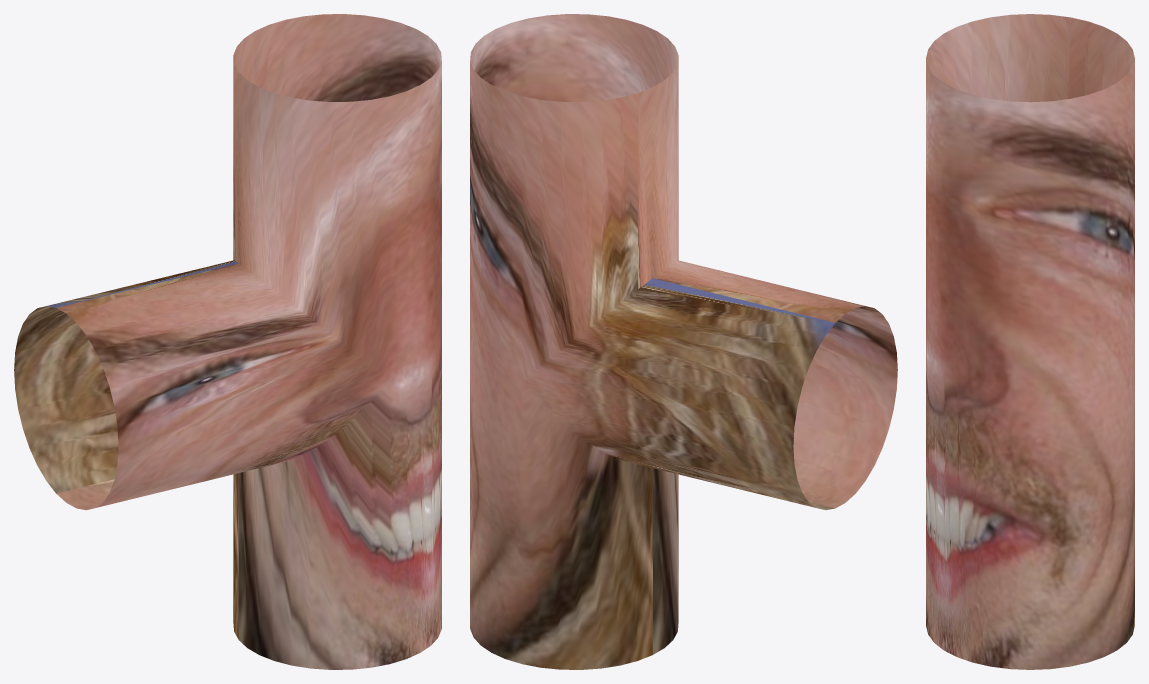
File: kroeger-t-joint.glb
The picture shows the model from 3 angles, left to right: view 1: azimuth 30°, elevation 25°; view 2: azimuth 150°, elevation 25°; view 3: azimuth 270°, elevation 25°; orthographic projection.
Parts seen in each view (by area): view 1: Tee Joint; view 2: Tee Joint; view 3: Tee Joint.
Part boxes in pixels (x1,y1,x2,y2): Tee Joint: (14, 14, 441, 669); Tee Joint: (470, 14, 897, 669); Tee Joint: (926, 14, 1134, 669).
Size of the model in its own units: 4 by 6 by 2.
Materials: 1 (1 with a texture image).
